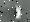person: (16, 6, 22, 20)
